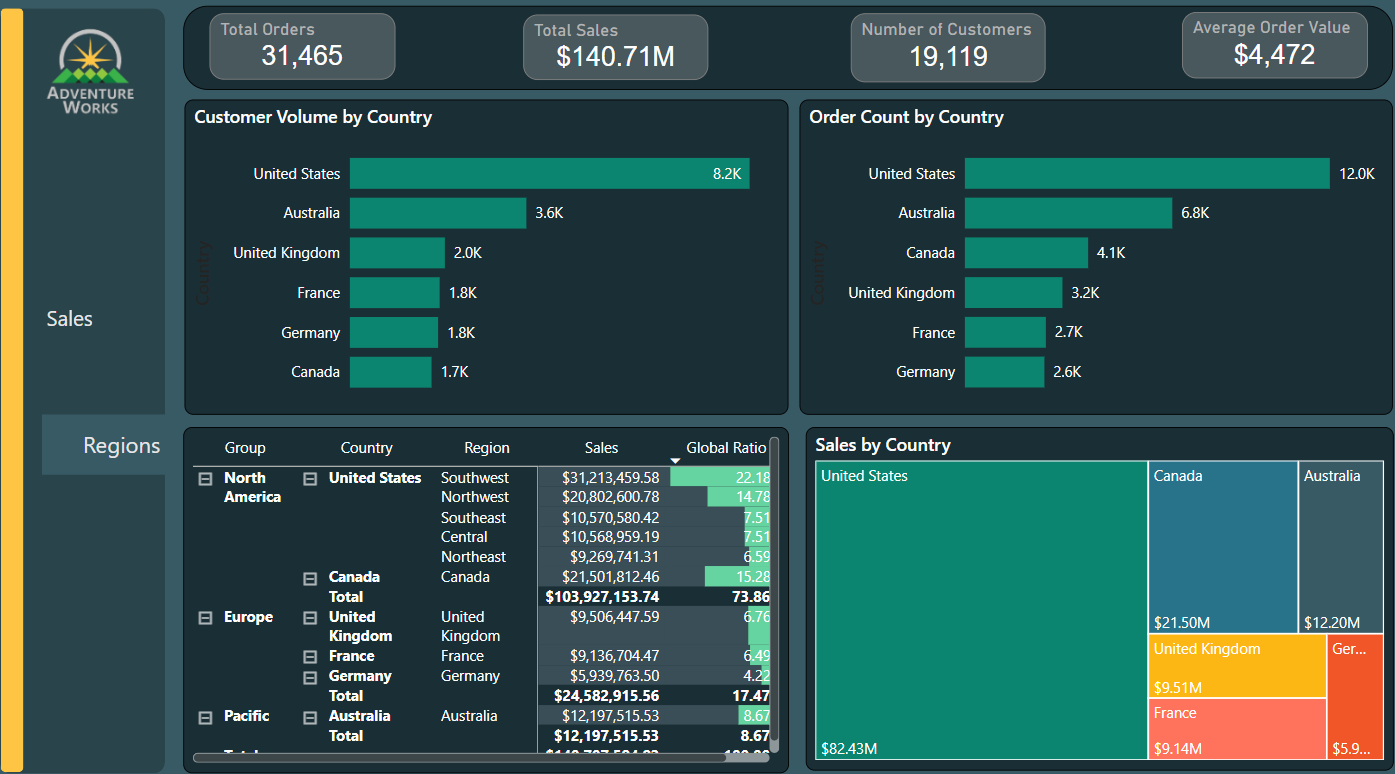

The dashboard page shown, as its layout file describes it:
{"tool":"powerbi","page":{"name":"Regions","canvas":[1280,720],"ordinal":1},"visuals":[{"type":"shape","box":[176.9,12.7,1093,76],"z":0,"group":"g3"},{"type":"group","id":"g1","title":"Group 3","box":[10.9,14.5,149.6,691.3],"z":0},{"type":"shape","box":[10.9,14.5,149.6,691.3],"z":0,"group":"g1"},{"type":"card","title":"Total Orders","fields":{"Values":["salesorderheader.Orders Count"]},"box":[201,20,167.7,60.3],"z":0,"group":"g2"},{"type":"shape","box":[12.1,14.5,20.5,690.1],"z":1000,"group":"g1"},{"type":"image","box":[32,15.3,129.4,132.2],"z":1000},{"type":"group","id":"g2","title":"Group 1","box":[201,18.8,1046,63.8],"z":1000,"group":"g3"},{"type":"card","title":"Total Sales","fields":{"Values":["salesorderheader.TotalSales"]},"box":[484.4,21.6,167.3,59.4],"z":1000,"group":"g2"},{"type":"card","title":"Number of Customers","fields":{"Values":["Count(salesorderheader.CustomerID)"]},"box":[779.8,19.9,176.1,62.7],"z":2000,"group":"g2"},{"type":"actionButton","box":[49.5,267.8,111,54.3],"z":2000},{"type":"card","title":"Average Order Value","fields":{"Values":["salesorderheader.Avg Order Value"]},"box":[1079.3,18.8,167.7,60.3],"z":3000,"group":"g2"},{"type":"actionButton","box":[49.5,381.2,111,54.3],"z":3000},{"type":"clusteredBarChart","title":"Customer Volume by Country","fields":{"Category":["Regions.Country"],"Y":["salesorderheader.Unique Customers"]},"box":[177.9,96.9,545.7,284.7],"z":4000},{"type":"pivotTable","fields":{"Rows":["Regions.Group","Regions.Country","Regions.Region"],"Values":["Sum(salesorderheader.TotalDue)","salesorderheader.TotalSales"]},"box":[177.5,392.5,547.5,312.5],"z":6000},{"type":"treemap","title":"Sales by Country","fields":{"Group":["Regions.Country"],"Values":["Sum(salesorderheader.TotalDue)"]},"box":[740,392.5,531.2,310],"z":7000},{"type":"group","id":"g3","title":"Group 2","box":[176.9,12.7,1093,76],"z":9000},{"type":"clusteredBarChart","title":"Order Count by Country","fields":{"Category":["Regions.Country"],"Y":["CountNonNull(salesorderheader.SalesOrderID)"]},"box":[733.9,97.1,536.3,284.5],"z":9001}]}

Visuals, with their boxes in screenshot pixels (x1, y1, x2, y2), scaled from the page's 1280x720 canvas onto the 1395x774 screenshot:
shape: 193,14,1384,95
"Group 3" group: 12,16,175,759
shape: 12,16,175,759
"Total Orders" card: 219,22,402,86
shape: 13,16,36,757
image: 35,16,176,159
"Group 1" group: 219,20,1359,89
"Total Sales" card: 528,23,710,87
"Number of Customers" card: 850,21,1042,89
actionButton: 54,288,175,346
"Average Order Value" card: 1176,20,1359,85
actionButton: 54,410,175,468
"Customer Volume by Country" clusteredBarChart: 194,104,789,410
pivotTable - Regions.Group x Regions.Country: 193,422,790,758
"Sales by Country" treemap: 806,422,1385,755
"Group 2" group: 193,14,1384,95
"Order Count by Country" clusteredBarChart: 800,104,1384,410
